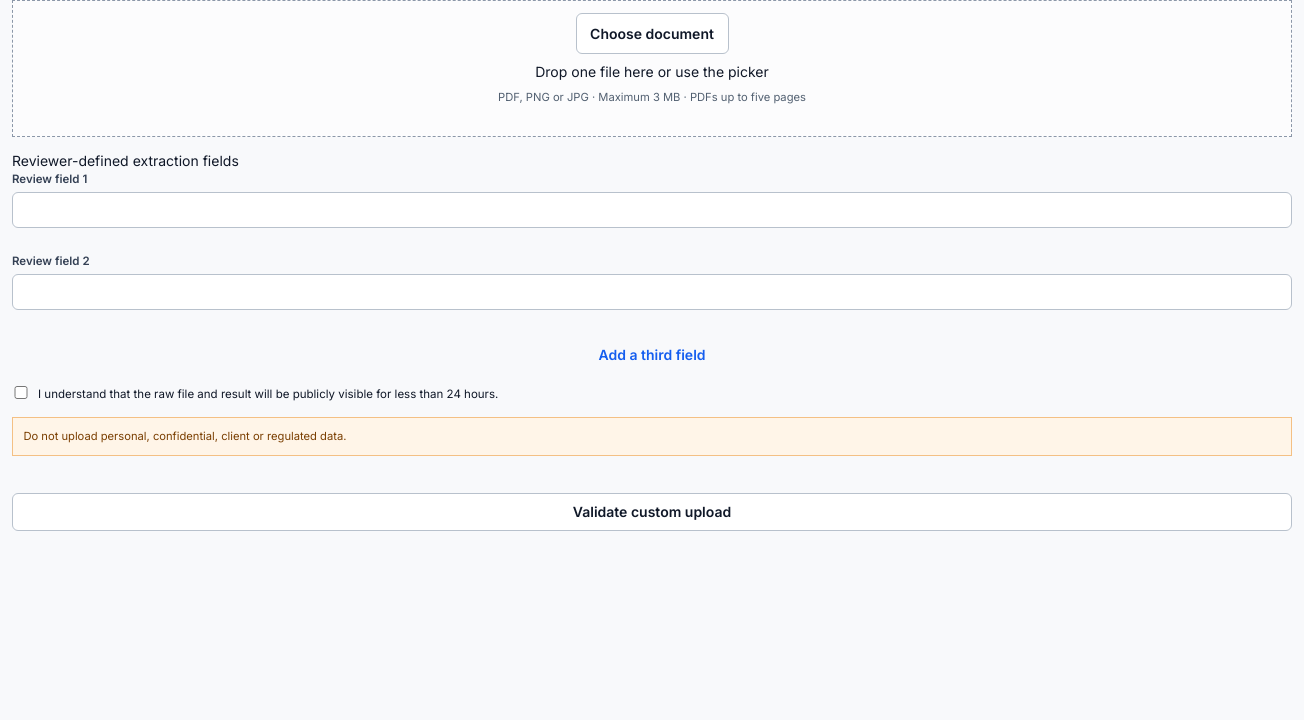
Test: Workbench controls › starts custom consent unchecked and keeps exactly two or three field labels
The width and height of the screenshot is (1304, 720).
Expected: the checkbox labelled "publicly visible" is not checked, [12,386,30,400]
Expected: the number of fields labelled "Review field 1" is 2, [12,192,1292,228]; [12,274,1292,310]
Click the button "Add a third field" at coordinates (652, 355), box [12,336,1292,374]
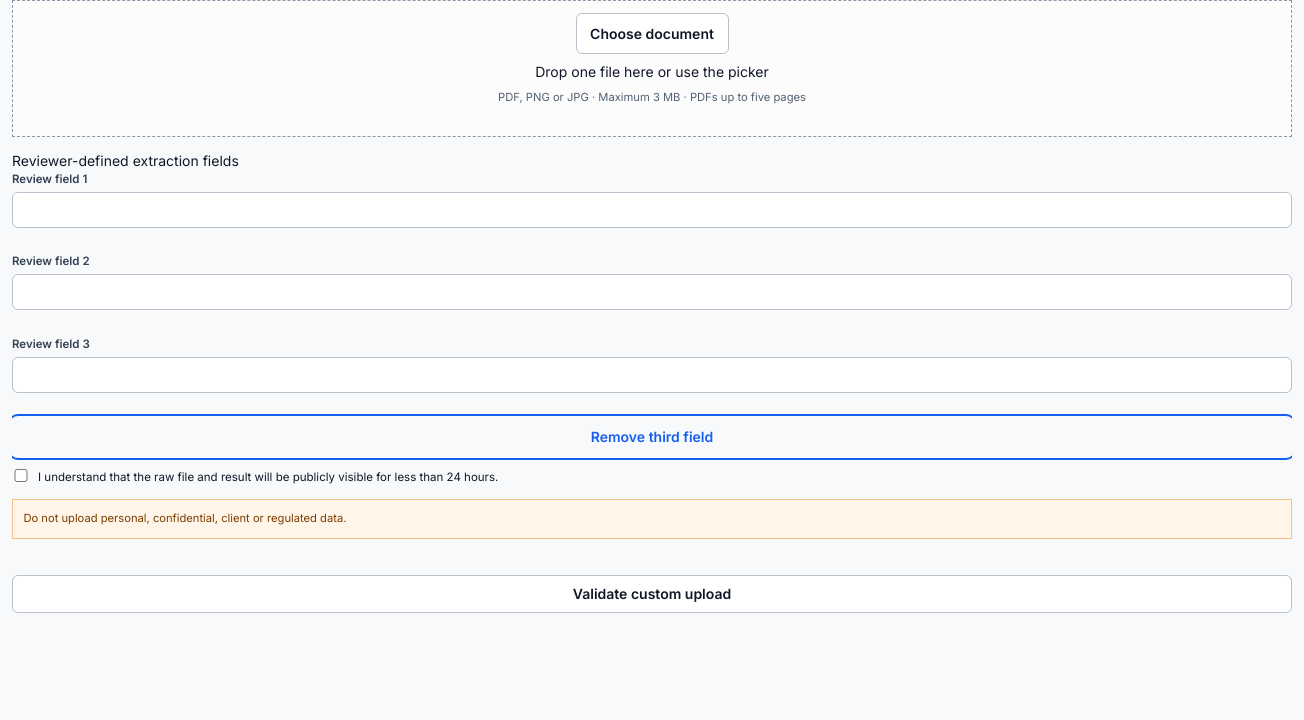
Result: the number of fields labelled "Review field 1" is 3 at [12,192,1292,228]; [12,274,1292,310]; [12,357,1292,393]
Result: the button "Add a third field" is gone
Click the button "Remove third field" at coordinates (652, 437), box [12,418,1292,456]
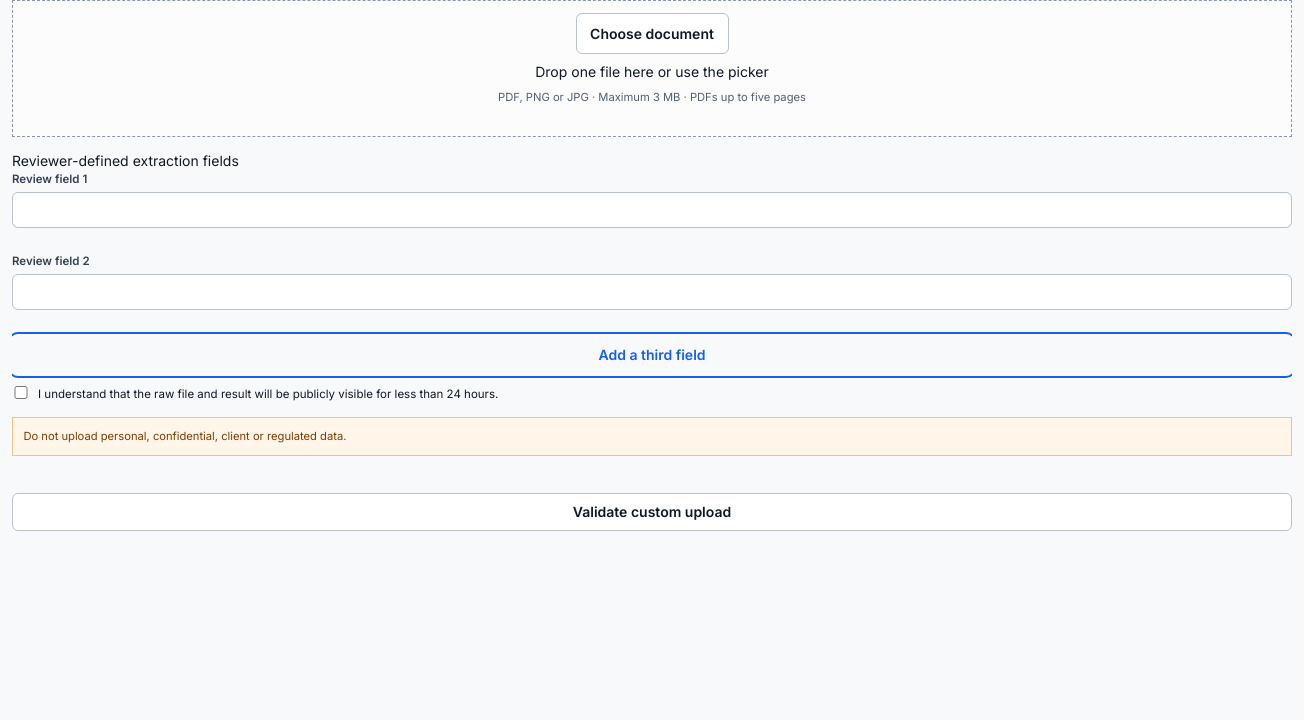
Result: the number of fields labelled "Review field 1" is 2 at [12,192,1292,228]; [12,274,1292,310]
